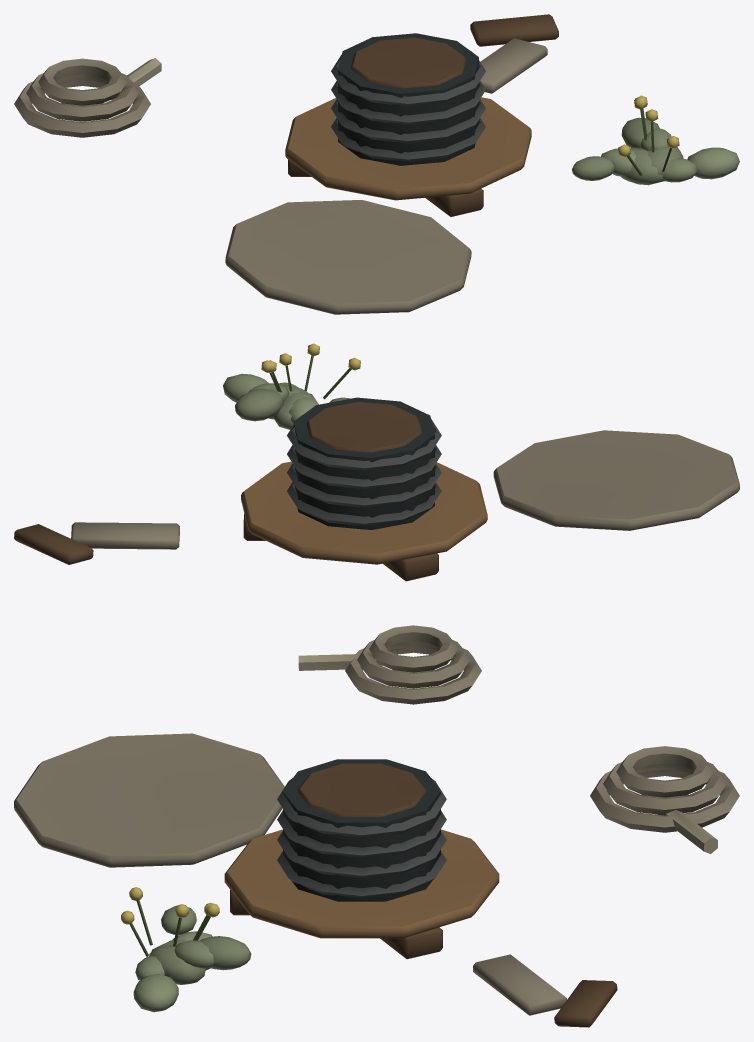
The model's file is cable_drum_c.glb.
3 views of the same model, one above another, from view 1: azimuth 30°, elevation 25°; view 2: azimuth 150°, elevation 25°; view 3: azimuth 270°, elevation 25° (orthographic). The views are drawn at different scales.
Parts seen in each view (by area): view 1: Surface; view 2: Surface; view 3: Surface.
Boxes of the visible parts, x1,y1,x2,y2 form: Surface: (14,14,739,314); Surface: (14,343,739,704); Surface: (14,733,739,1027).
Bounding box in the file's own units: 7.31 × 1.5 × 8.27.
